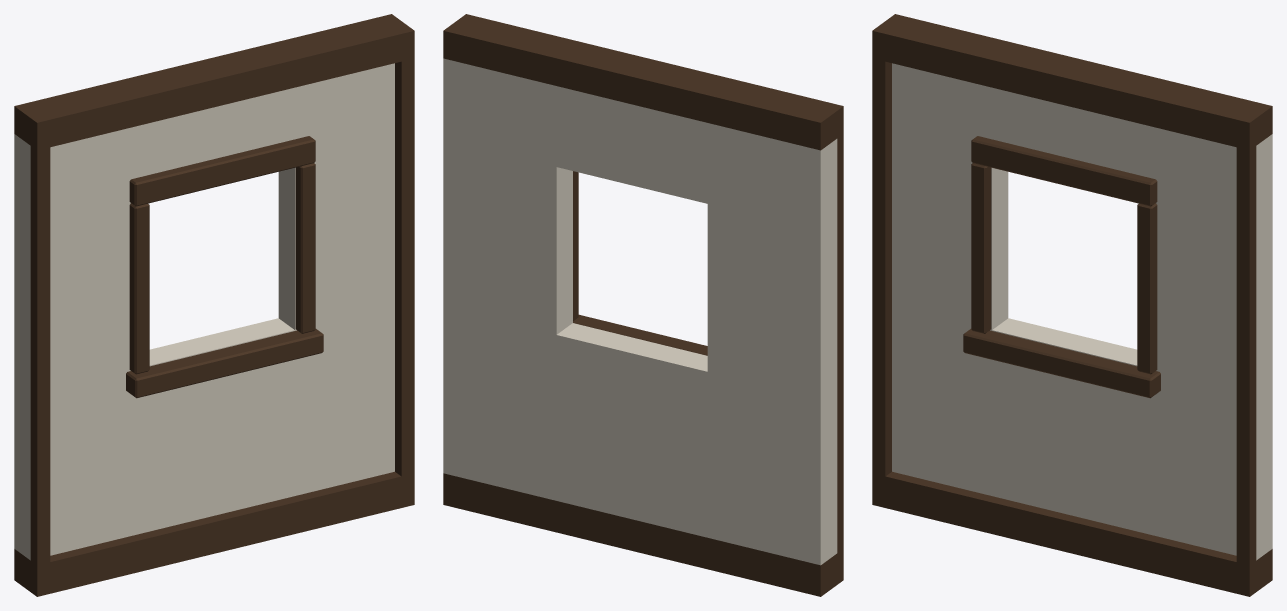
The model's file is mdvl_village_wall_window_01.glb.
3 views of the same model, side by side, from view 1: azimuth 30°, elevation 25°; view 2: azimuth 150°, elevation 25°; view 3: azimuth 330°, elevation 25° (orthographic).
Visible parts, largest first — view 1: mdvl_village_wall_window_01; view 2: mdvl_village_wall_window_01; view 3: mdvl_village_wall_window_01.
Part boxes in pixels (bbox=[...]): mdvl_village_wall_window_01: bbox=[14, 14, 414, 596]; mdvl_village_wall_window_01: bbox=[443, 14, 843, 596]; mdvl_village_wall_window_01: bbox=[872, 14, 1272, 596].
Bounding box in the file's own units: 2 × 2.4 × 0.25.
1 material, 1 textured.
